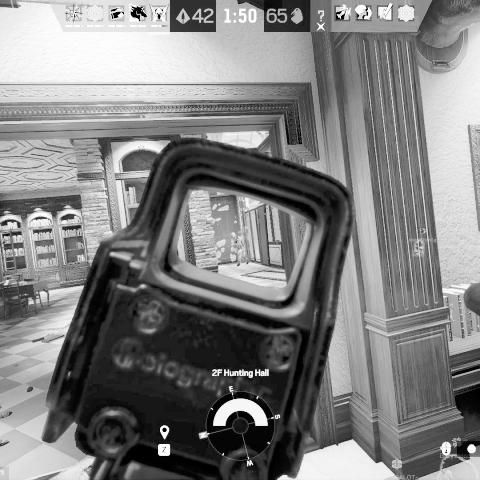Character: (230, 231, 249, 268)
Friend_label: (369, 457, 417, 480), (439, 437, 475, 460), (408, 227, 438, 242)
Head: (230, 232, 236, 238)
